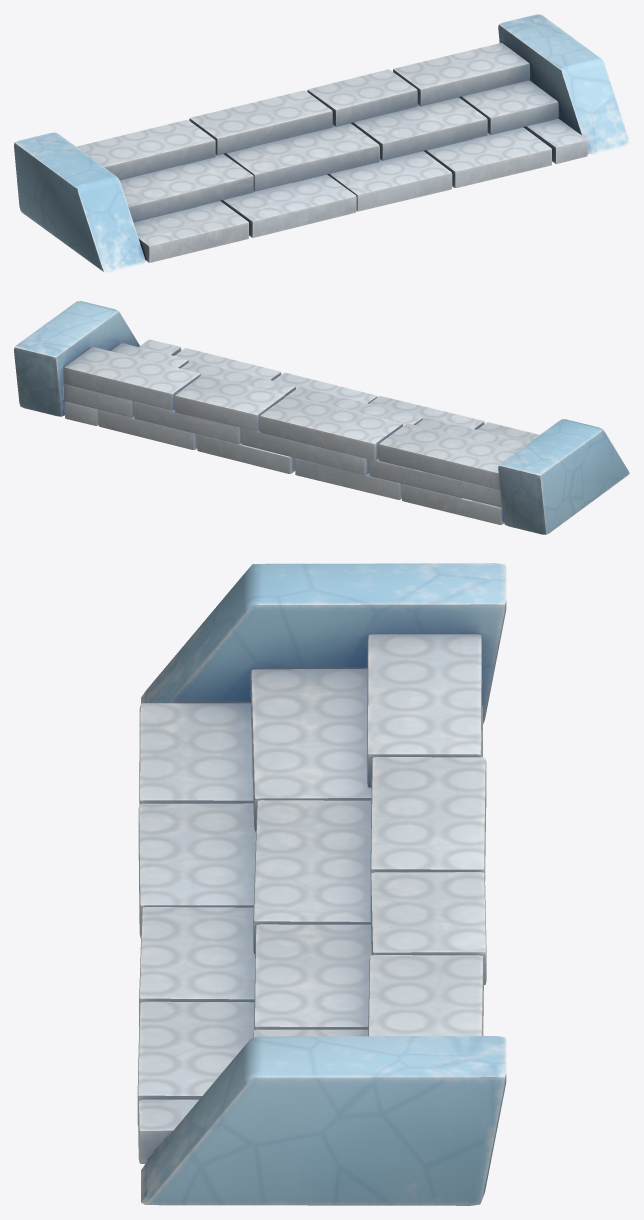
Rendered from Glace_Escalier.fbx.
3 renders of one model, top to bottom at view 1: azimuth 30°, elevation 25°; view 2: azimuth 150°, elevation 25°; view 3: azimuth 270°, elevation 25°, orthographic. The views are drawn at different scales.
Visible parts, largest first — view 1: Glace_Escalier; view 2: Glace_Escalier; view 3: Glace_Escalier.
Boxes of the visible parts, x1,y1,x2,y2 form: Glace_Escalier: (14,14,629,272); Glace_Escalier: (14,301,629,534); Glace_Escalier: (137,563,506,1205).
Bounding box in the file's own units: 1920 × 230 × 580.
1 material, 1 textured.
